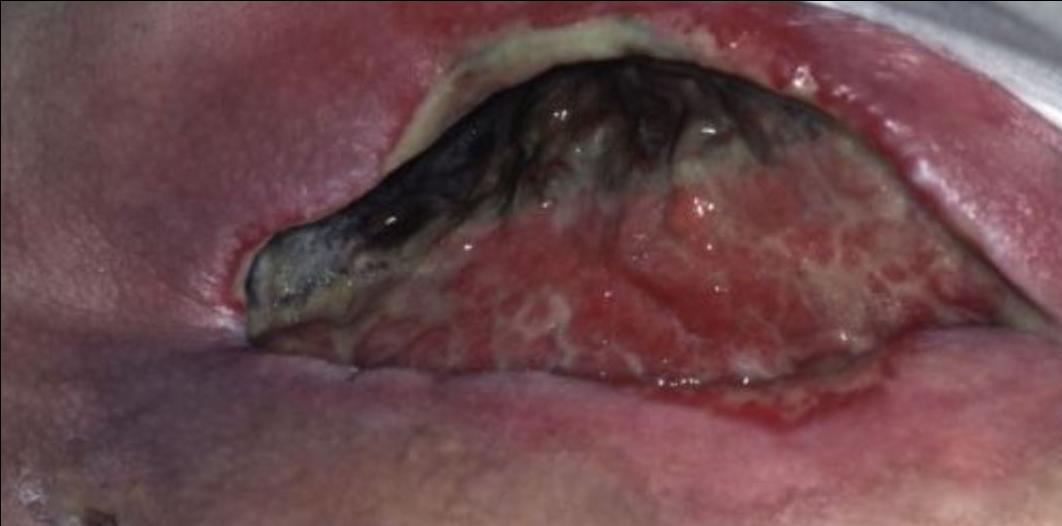Stage3: (210, 38, 1062, 459)
